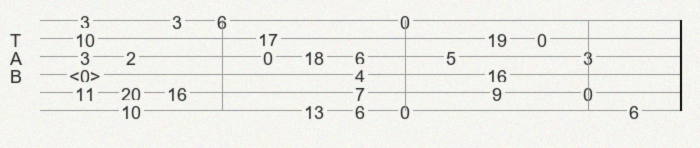0: (263, 48, 277, 65), (400, 102, 414, 119), (400, 12, 414, 29), (537, 30, 551, 47), (583, 84, 597, 101)
10: (75, 30, 99, 47), (121, 102, 145, 119)
11: (75, 84, 99, 101)
13: (304, 102, 328, 119)
16: (167, 84, 191, 101), (487, 66, 511, 83)
17: (258, 30, 282, 47)
18: (304, 48, 328, 65)
19: (487, 30, 511, 47)
2: (126, 48, 140, 65)
20: (121, 84, 145, 101)
3: (80, 48, 94, 65), (80, 12, 94, 29), (172, 12, 186, 29), (583, 48, 597, 65)
4: (355, 66, 369, 83)
5: (446, 48, 460, 65)
6: (217, 12, 231, 29), (355, 48, 369, 65), (355, 102, 369, 119), (629, 102, 643, 119)
7: (355, 84, 369, 101)
9: (492, 84, 506, 101)
harmonic: (69, 66, 105, 83)
